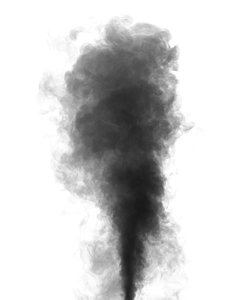smoke: (55, 26, 180, 300)
